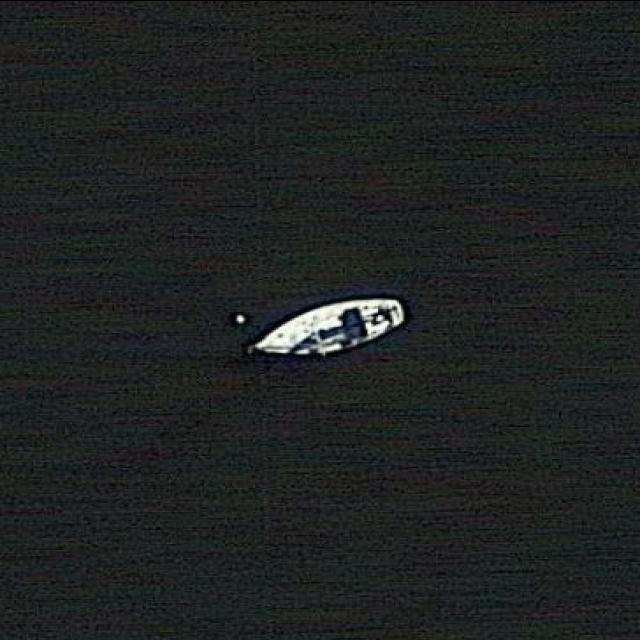ship: (241, 292, 408, 366)
